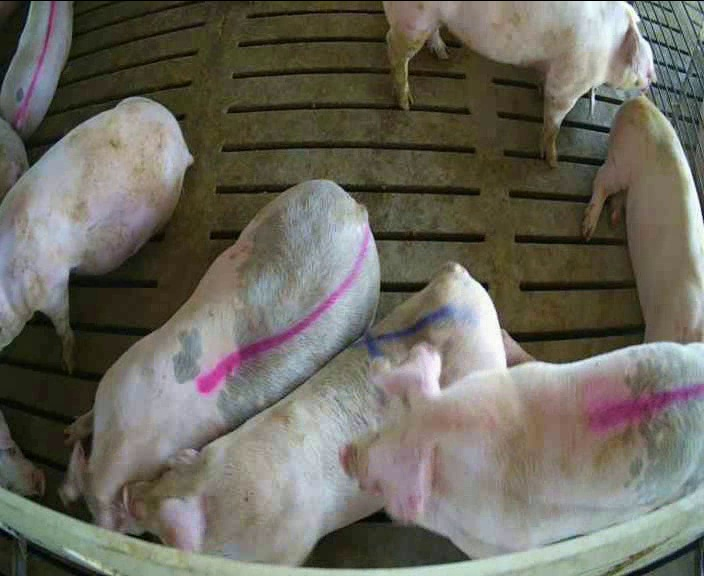pig: (125, 263, 535, 563), (58, 180, 379, 533), (345, 342, 703, 556), (0, 97, 192, 365), (384, 2, 654, 166), (582, 96, 703, 341), (0, 2, 72, 137)
